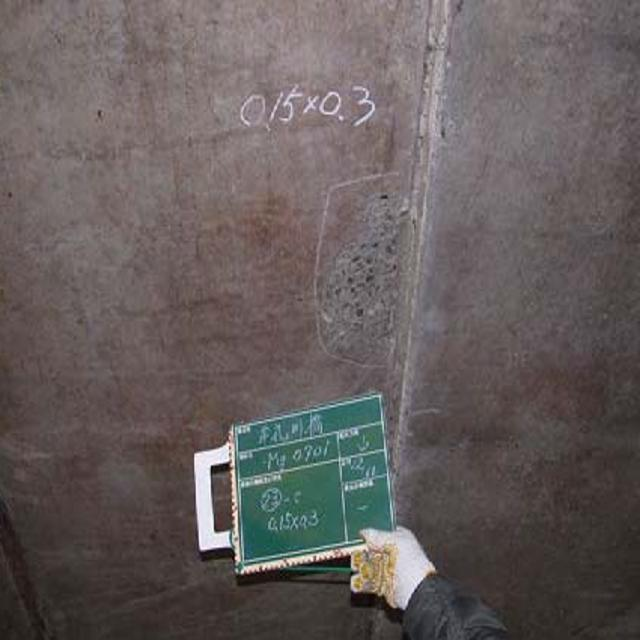spalling: (311, 186, 433, 381)
